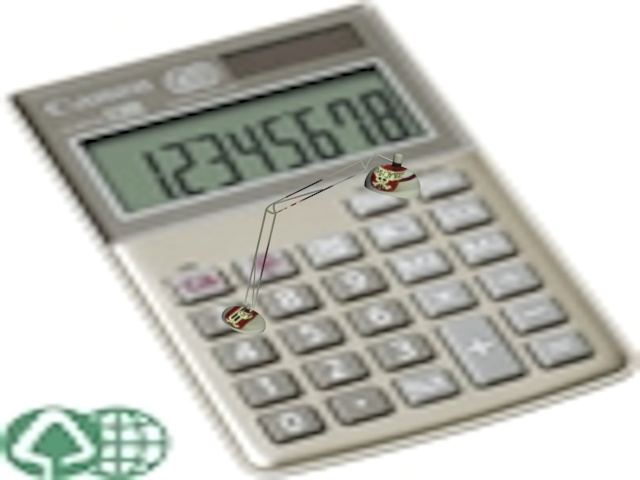desk_lamp: (217, 145, 432, 337)
